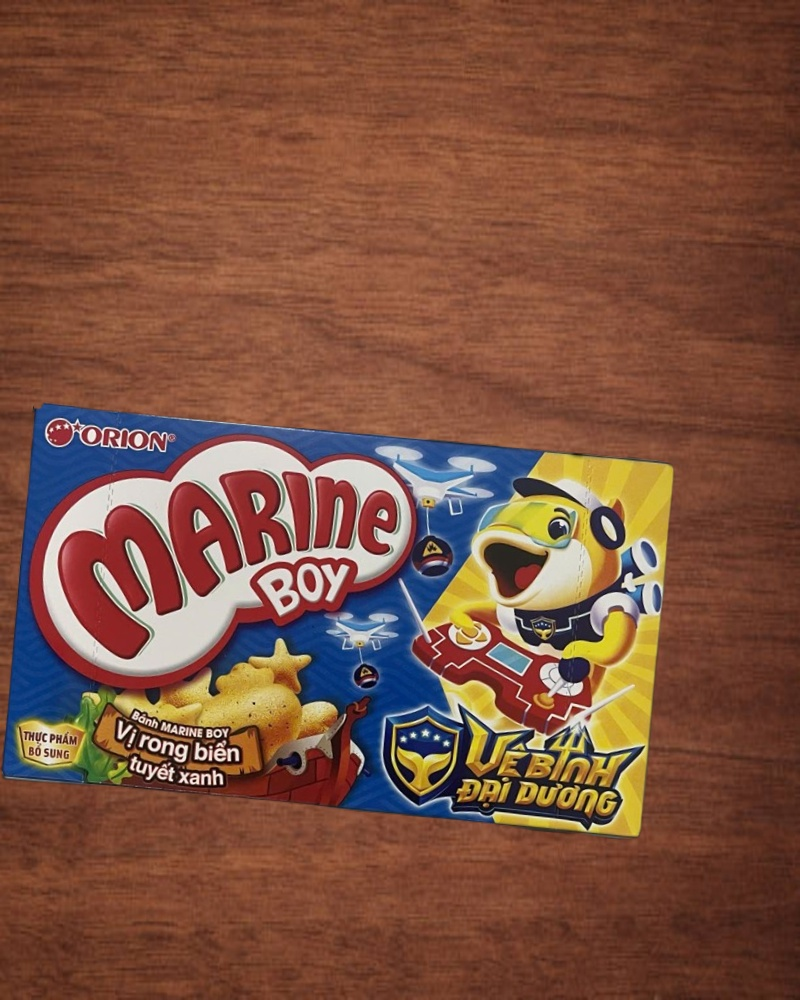Marine: (3, 403, 677, 840)
